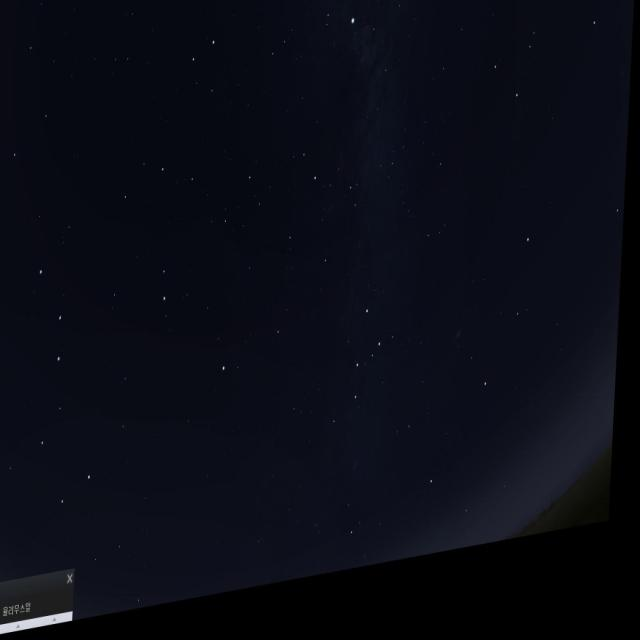cassiopeia: (331, 308, 395, 456)
cygnus: (296, 0, 414, 73)
ursa_major: (25, 249, 112, 533)
